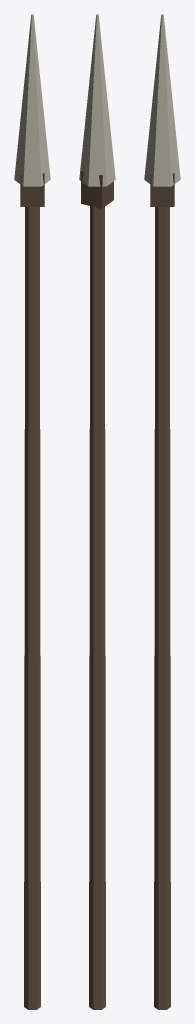
File: bone_javelin.glb
The picture shows the model from 3 angles, left to right: view 1: azimuth 90°, elevation 25°; view 2: azimuth 150°, elevation 25°; view 3: azimuth 270°, elevation 25°; orthographic projection.
Visible parts, largest first — view 1: bone_javelin; view 2: bone_javelin; view 3: bone_javelin.
Boxes of the visible parts, bbox=[...] form: bone_javelin: bbox=[14, 14, 50, 1009]; bone_javelin: bbox=[79, 14, 115, 1009]; bone_javelin: bbox=[144, 14, 180, 1009].
Size of the model in its own units: 0.052 by 1.8 by 0.06.
